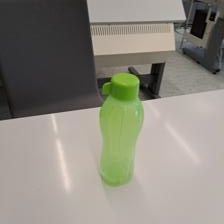bottle: (95, 71, 144, 187)
